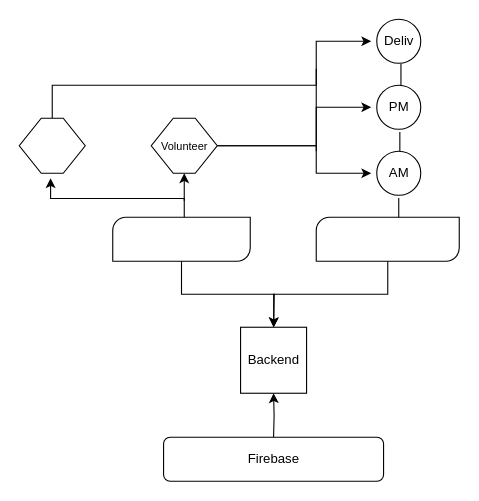
This 479x501 diagram has some shape labels left out. Here are the shapes that lost their labels. From the top down, the centre of each, then its label:
point (51, 145): Staff
point (181, 238): Frontend Authorization
point (387, 238): Frontend Event
